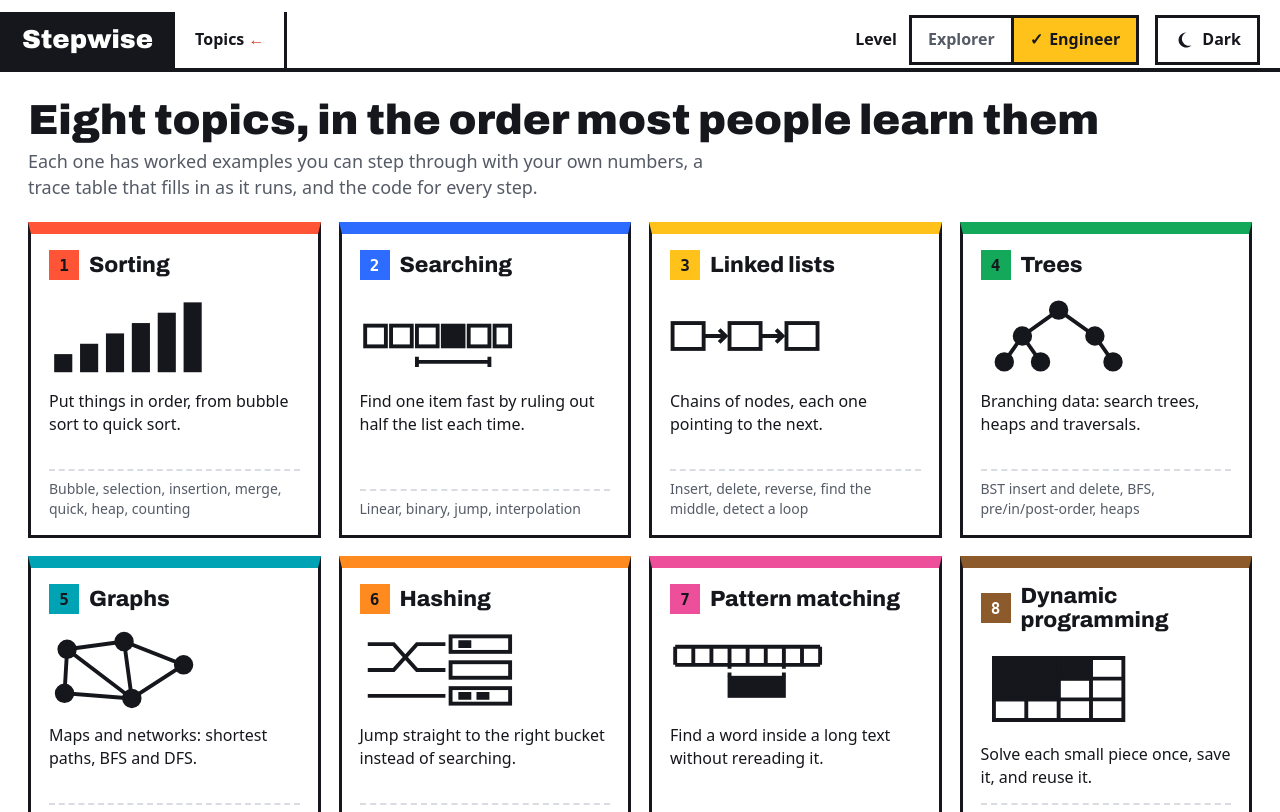
Scenario: routes › moves focus to the new page after navigating, by mouse or keyboard
Click the link "Sorting" at (174, 380), box top-left (28, 222), bottom-right (320, 538)
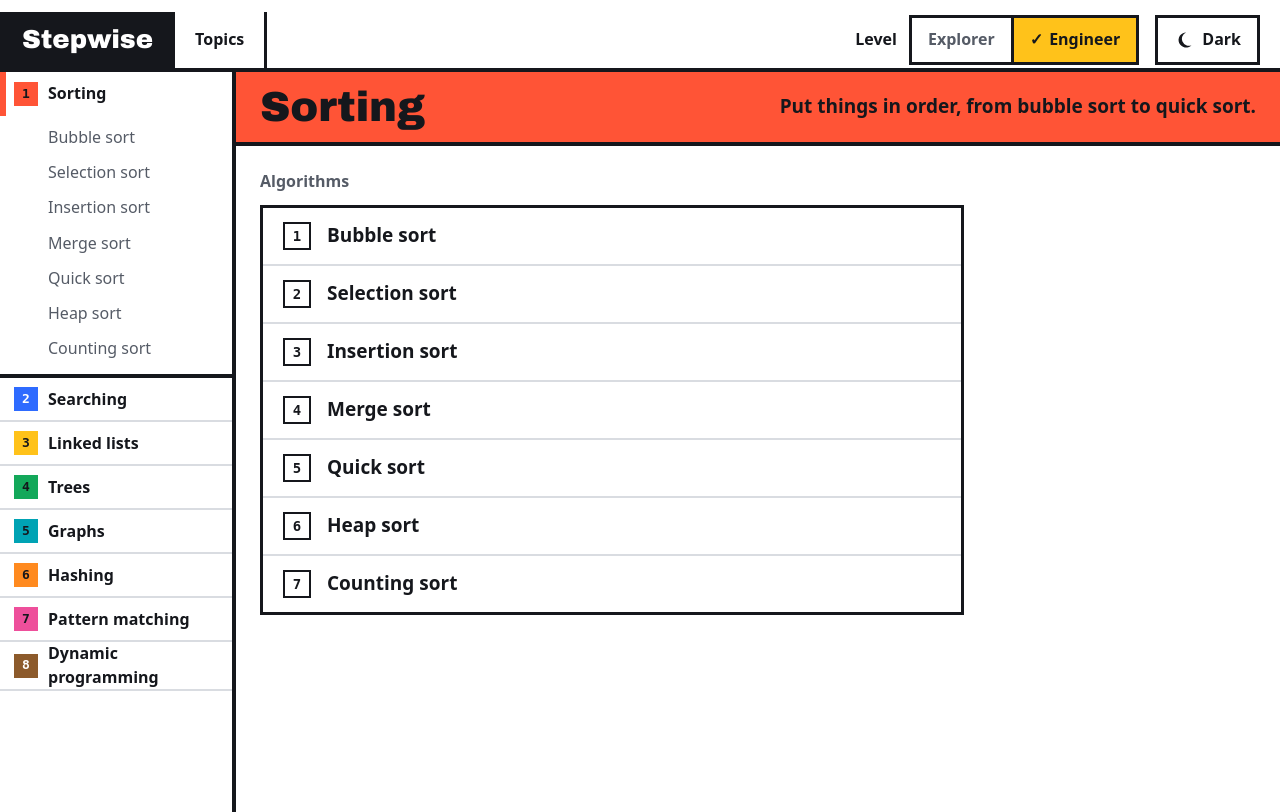
Result: the heading "Sorting" is shown at top-left (260, 84), bottom-right (425, 130)
Press Tab
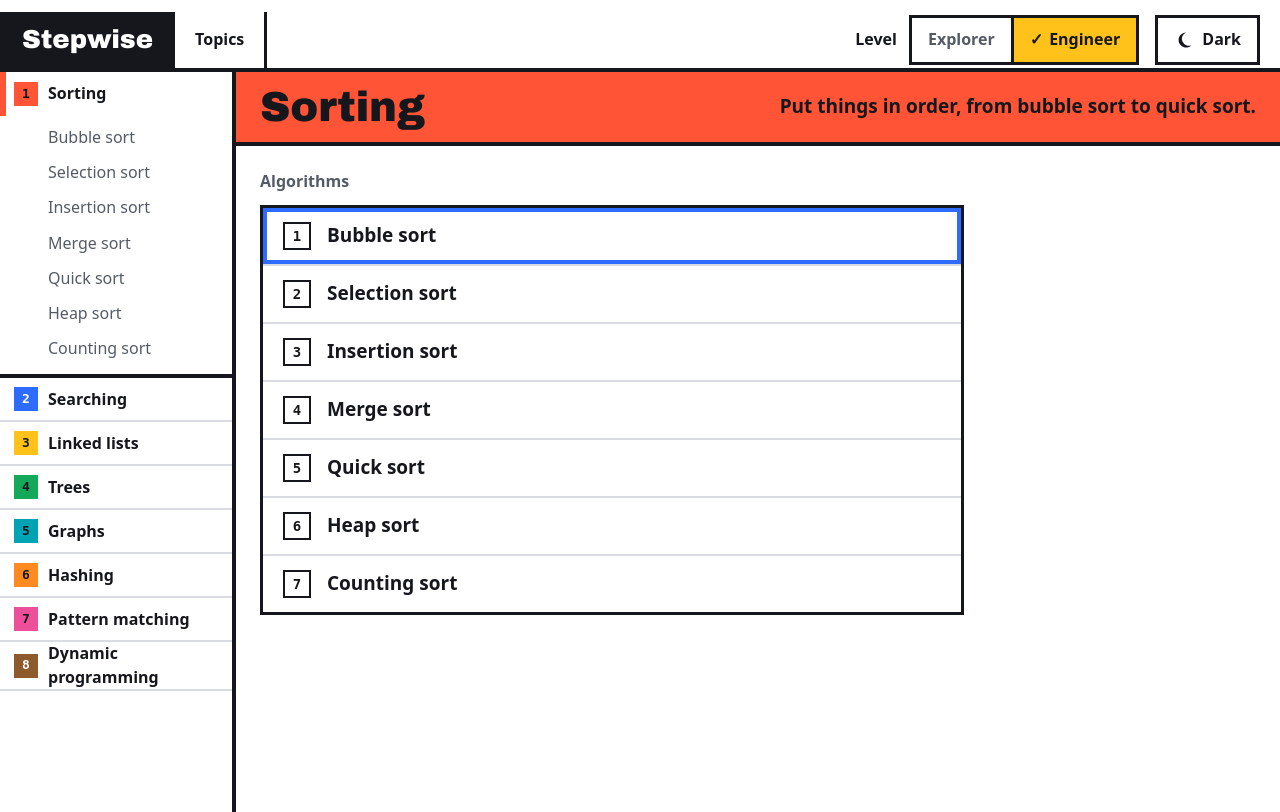
Press Enter
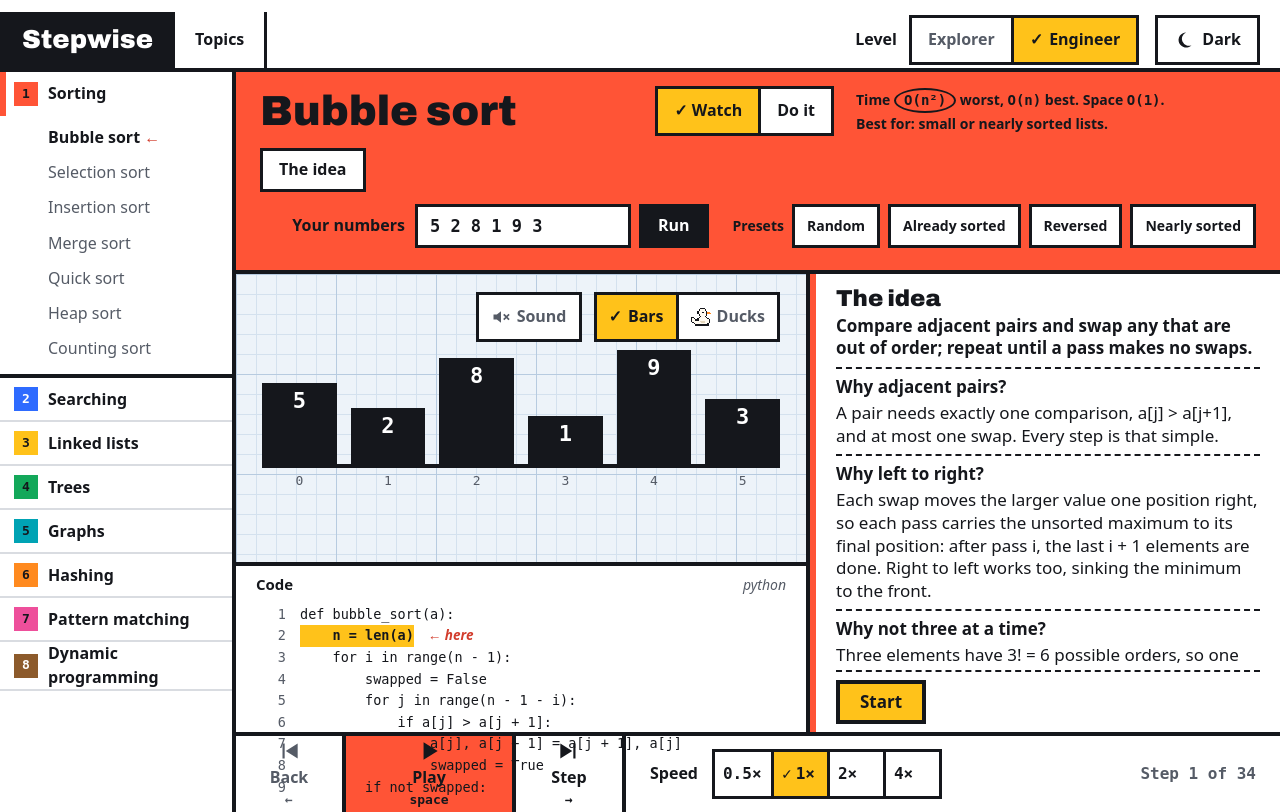
Result: the heading "Bubble sort" is shown at top-left (260, 88), bottom-right (517, 134)
